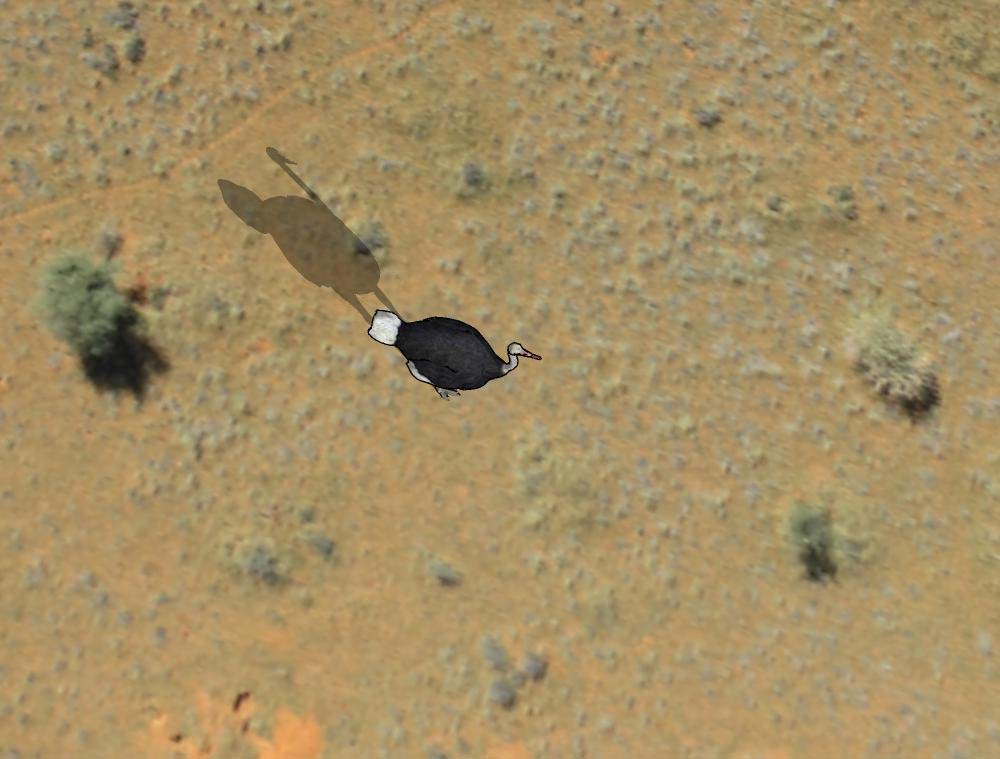springbok: (361, 303, 550, 408)
